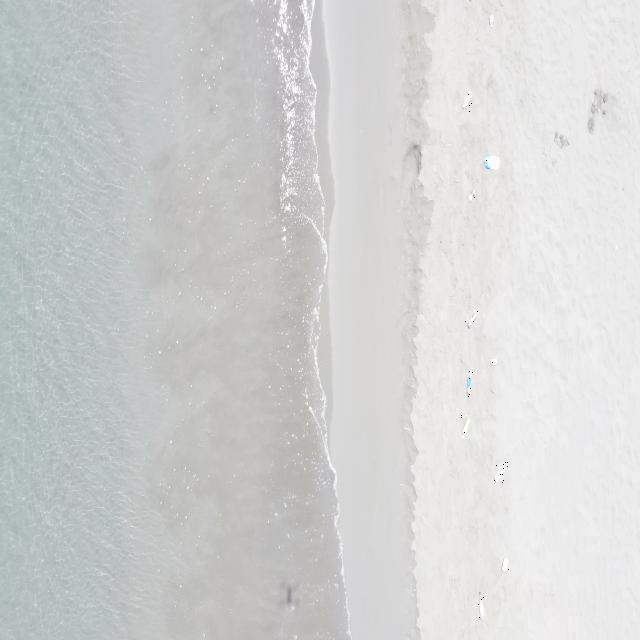Garbage: (484, 155, 499, 167)
